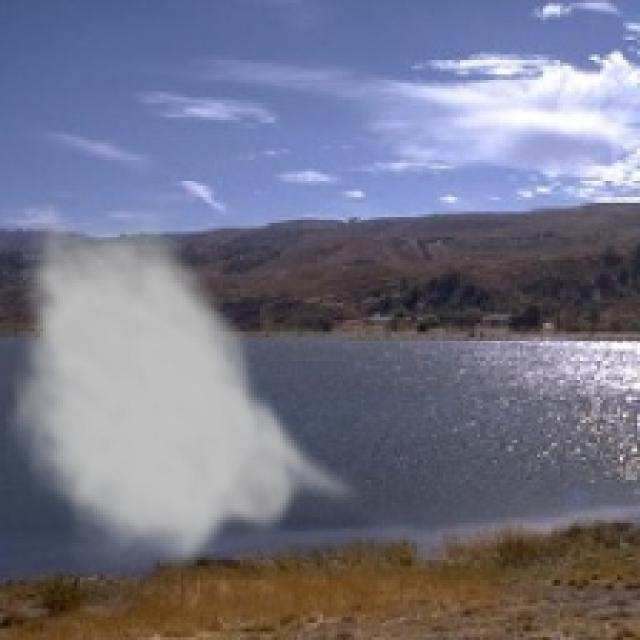Smoke: (6, 200, 366, 577)
